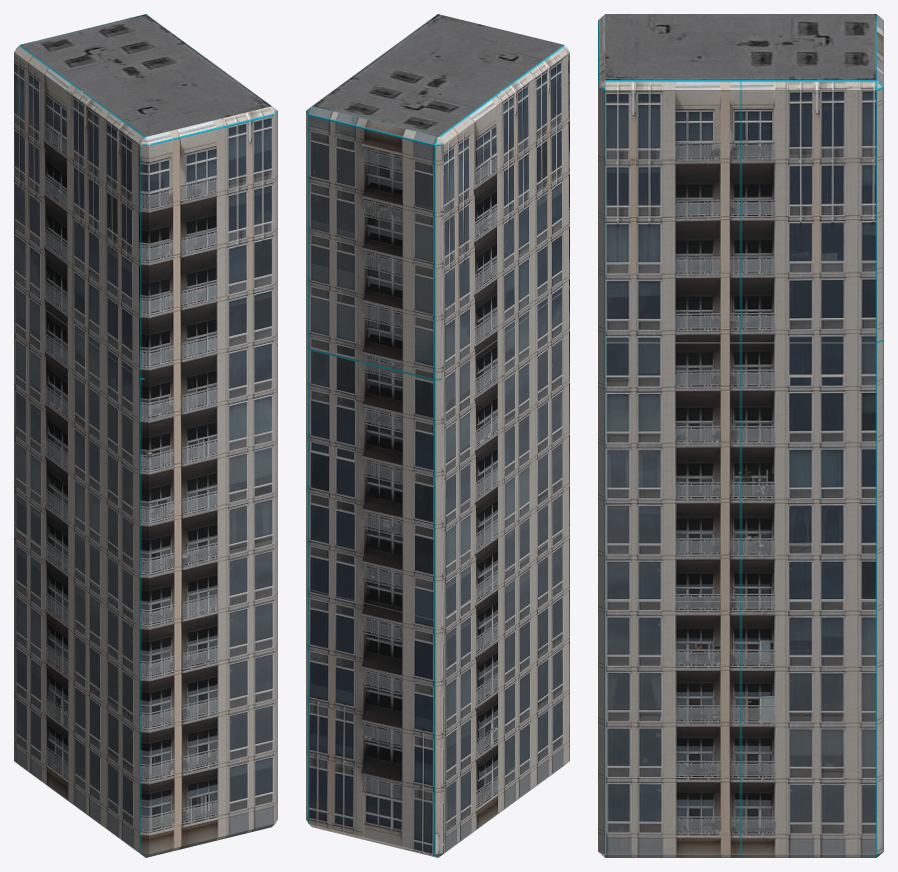
File: building01.fbx
The picture shows the model from 3 angles, left to right: view 1: azimuth 30°, elevation 25°; view 2: azimuth 150°, elevation 25°; view 3: azimuth 270°, elevation 25°; orthographic projection. The views are drawn at different scales.
Parts seen in each view (by area): view 1: pCube1; view 2: pCube1; view 3: pCube1.
Part boxes in pixels (<box>): pCube1: <box>14,14,277,857</box>; pCube1: <box>306,14,569,857</box>; pCube1: <box>598,14,883,857</box>.
Bounding box in the file's own units: 3 × 15 × 5.
Materials: 1 (1 with a texture image).
